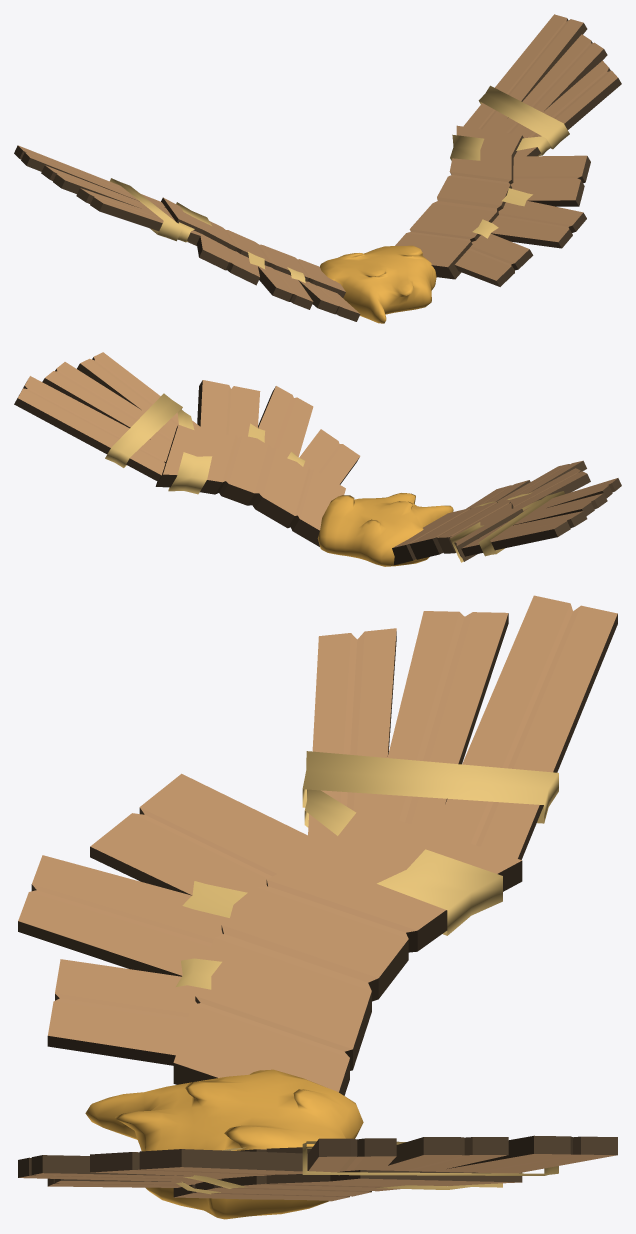
Rendered from Alas.fbx.
3 views of the same model, one above another, from view 1: azimuth 30°, elevation 25°; view 2: azimuth 150°, elevation 25°; view 3: azimuth 270°, elevation 25° (orthographic). The views are drawn at different scales.
Visible parts, largest first — view 1: Plane.001, Cube.002, Plane.002; view 2: Plane.001, Cube.002, Plane.002; view 3: Plane.001, Plane.002, Cube.002.
Boxes of the visible parts, box(x1,y1,x2,y2) form: Plane.001: box(14, 14, 621, 321); Cube.002: box(320, 245, 436, 323); Plane.002: box(109, 85, 569, 282); Plane.001: box(14, 352, 621, 565); Cube.002: box(317, 493, 453, 566); Plane.002: box(105, 393, 564, 562); Plane.001: box(18, 595, 617, 1201); Plane.002: box(176, 751, 558, 1194); Cube.002: box(85, 1069, 363, 1219).
Bounding box in the file's own units: 123 × 33.29 × 56.76.
